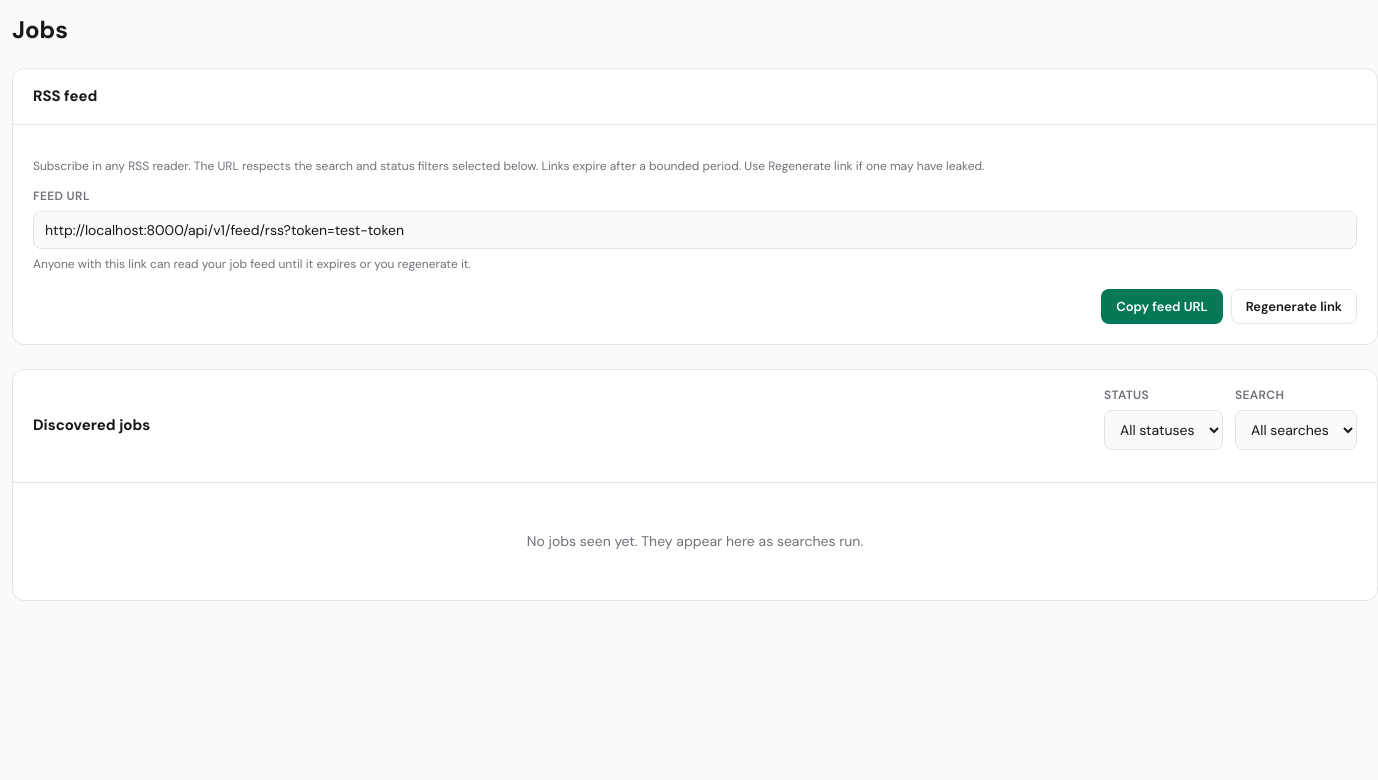
Test: JobsPage › regenerates the feed link
Click the button "Regenerate link".
click(1294, 306)  # box [1231,288,1357,324]
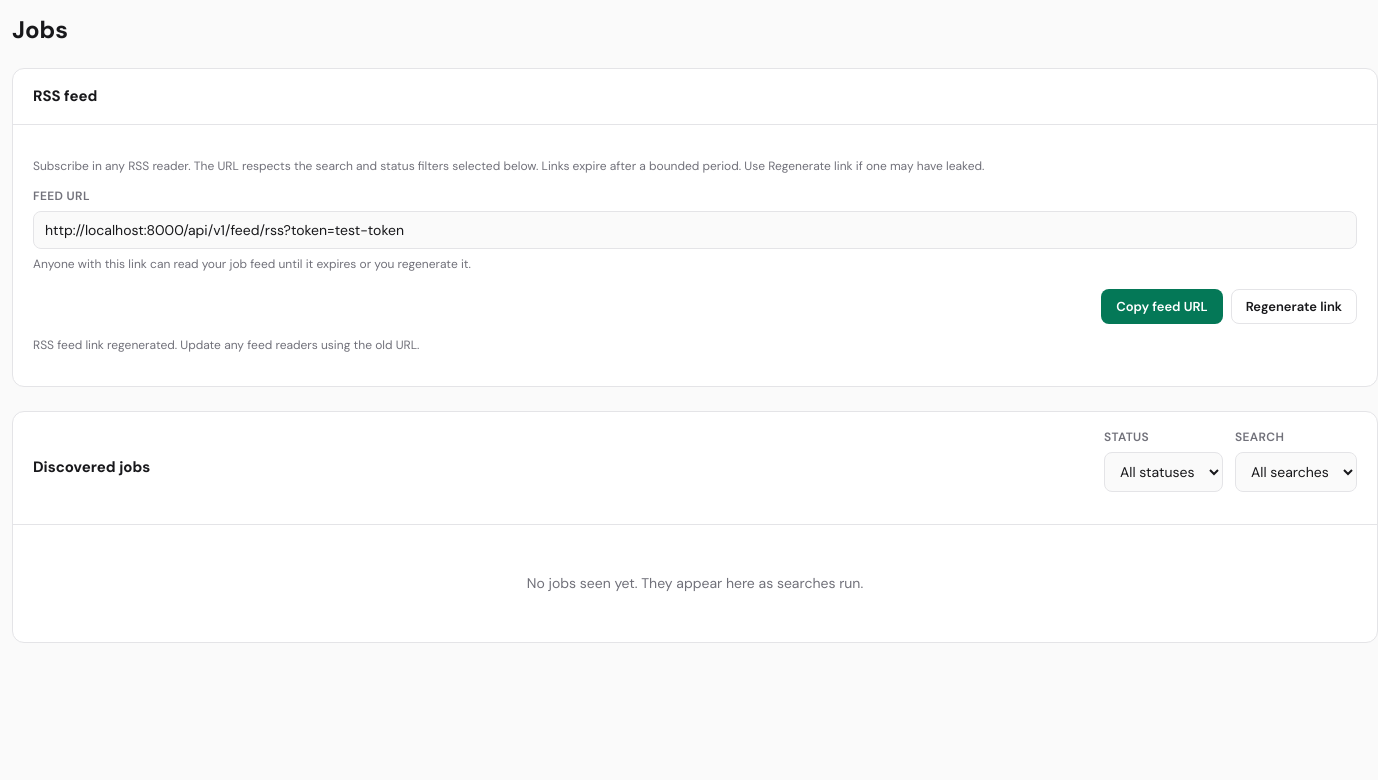
Check: the text "RSS feed link regenerated. Update any feed readers using the old URL." is shown, box [33,336,419,352]
